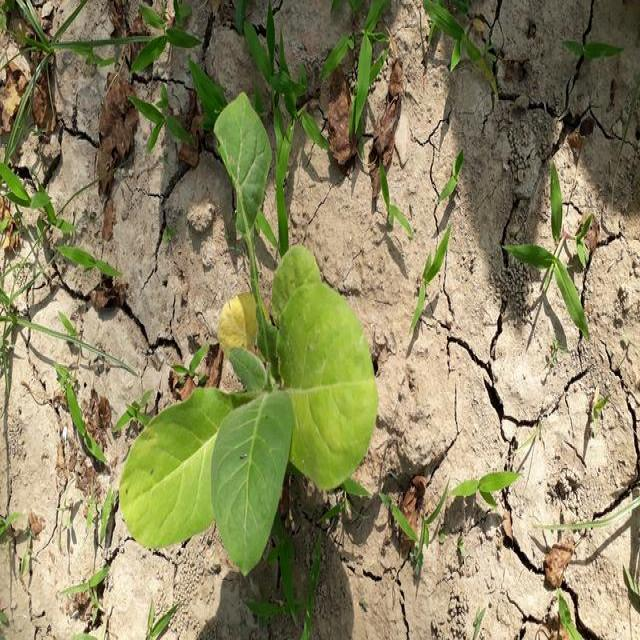crop: (125, 95, 382, 567)
